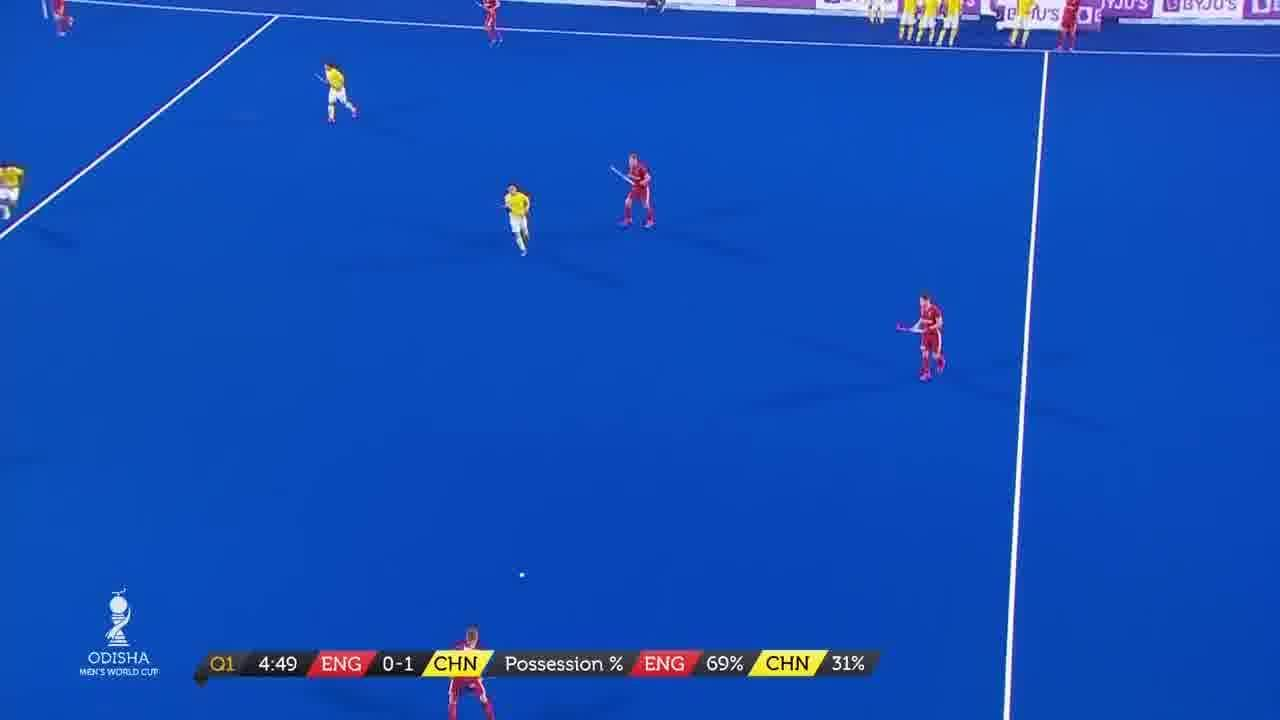ball: (517, 569, 527, 581)
